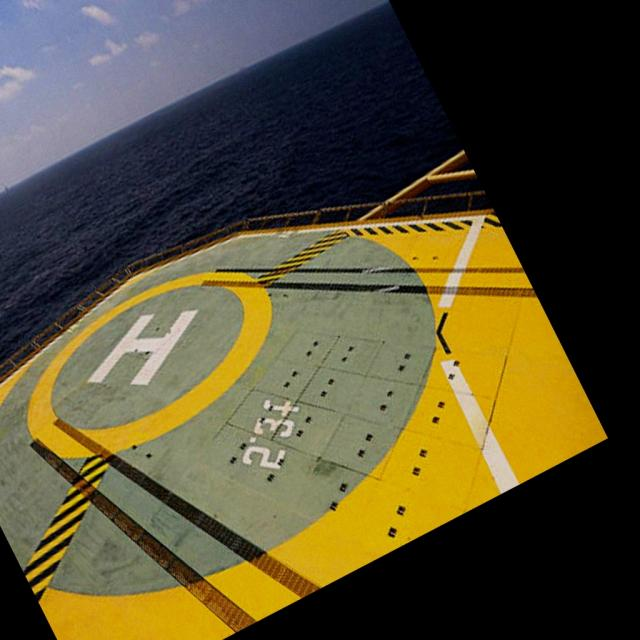helipad: (21, 263, 276, 461)
